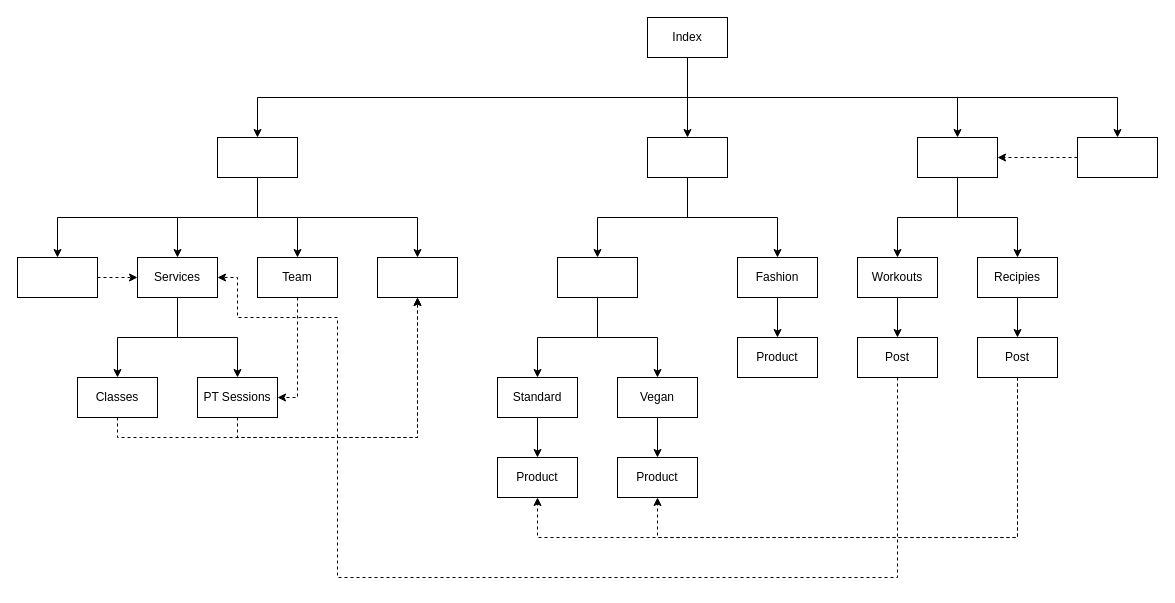
This 1175x603 diagram has some shape labels left out. Here are the shapes that lost their labels. From the top down, the centre of each, then its label:
the point at 257,157: Gym
the point at 687,157: Shop
the point at 957,157: Lifestyle Blog
the point at 1117,157: About
the point at 57,277: Locations
the point at 417,277: Online Booking
the point at 597,277: Protein
